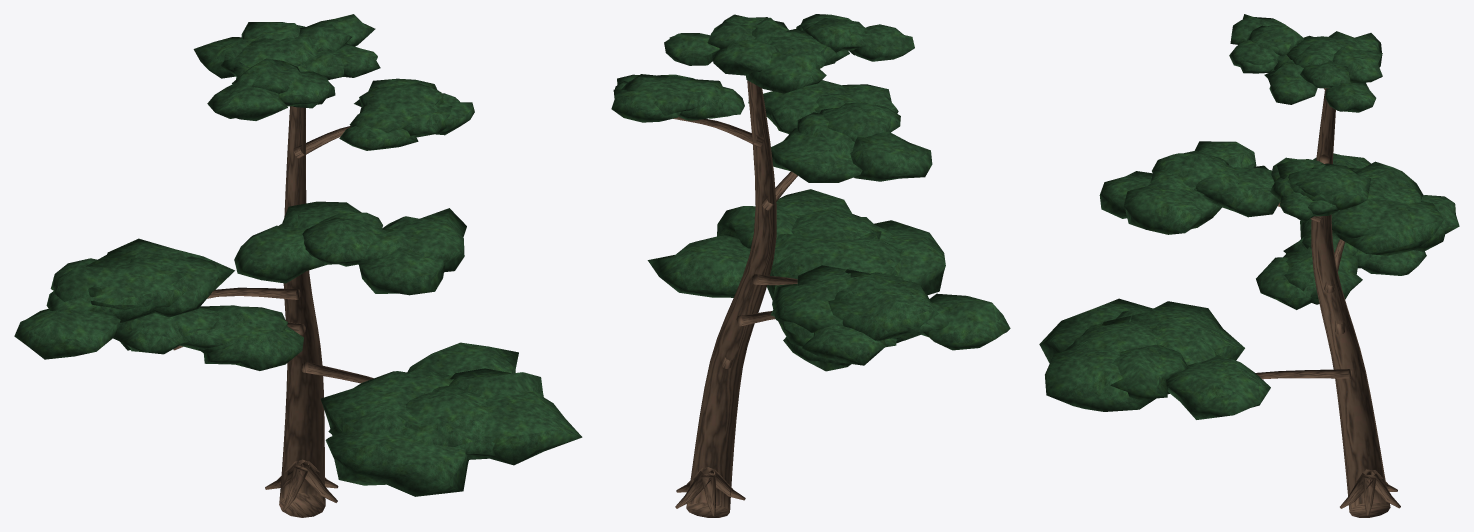
Rendered from pine_tree_tall.glb.
3 renders of one model, left to right at view 1: azimuth 30°, elevation 25°; view 2: azimuth 150°, elevation 25°; view 3: azimuth 270°, elevation 25°, orthographic. The views are drawn at different scales.
Parts seen in each view (by area): view 1: PineNeedles, PineTrunk; view 2: PineNeedles, PineTrunk; view 3: PineNeedles, PineTrunk.
Part boxes in pixels (x1=…): PineNeedles: x1=14, y1=14, x2=582, y2=496; PineTrunk: x1=173, y1=106, x2=373, y2=517; PineNeedles: x1=611, y1=14, x2=1010, y2=371; PineTrunk: x1=673, y1=80, x2=797, y2=517; PineNeedles: x1=1039, y1=14, x2=1459, y2=419; PineTrunk: x1=1256, y1=88, x2=1400, y2=517.
Size of what is drawn, in the model's own units: 10.33 by 11.3 by 9.65.
2 materials, 2 textured.
